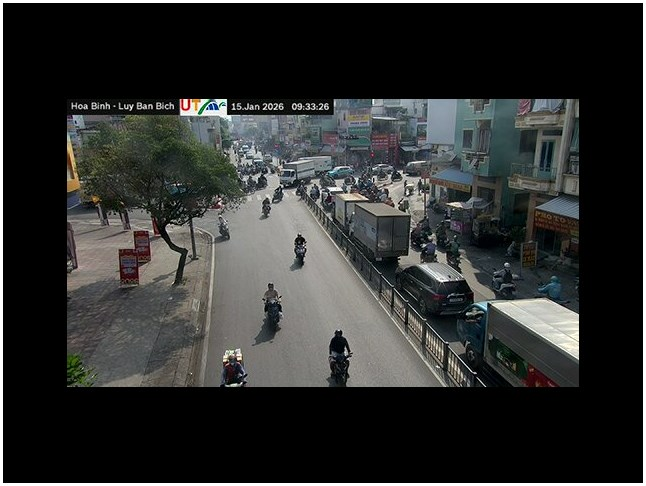bus: (456, 295, 579, 386)
car: (395, 262, 475, 317), (165, 181, 189, 196)
